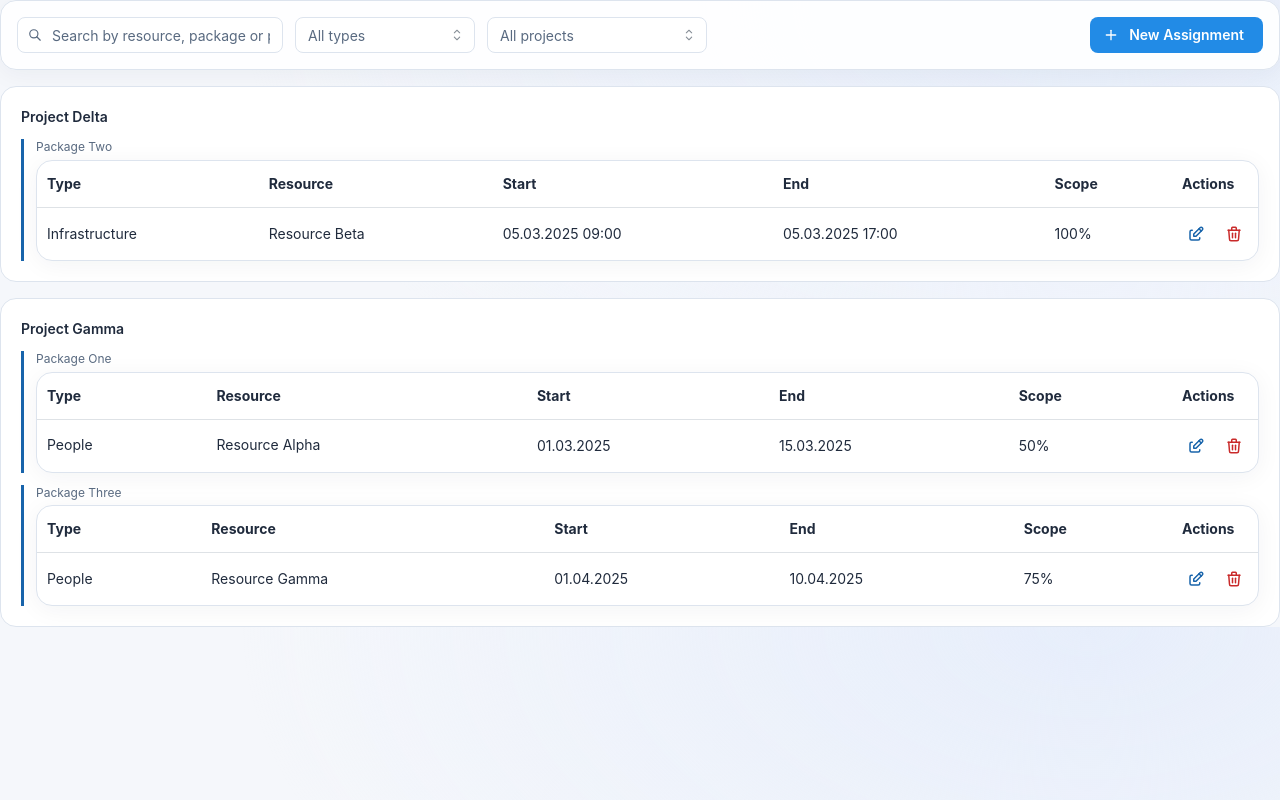
Test: AssignmentsPanel › Filtering by type (Requirement 5.3) › shows only infrastructure assignments when infrastructure type is selected
The width and height of the screenshot is (1280, 800).
Expected: the text "Resource Beta" is shown, x1=269 y1=224 x2=365 y2=244
# Click the type filter select to open dropdown
What coordinates should you click on to do the following:
click the dropdown with placeholder "All types"
I would click on:
 (385, 35)
Its box is x1=295 y1=17 x2=475 y2=53.
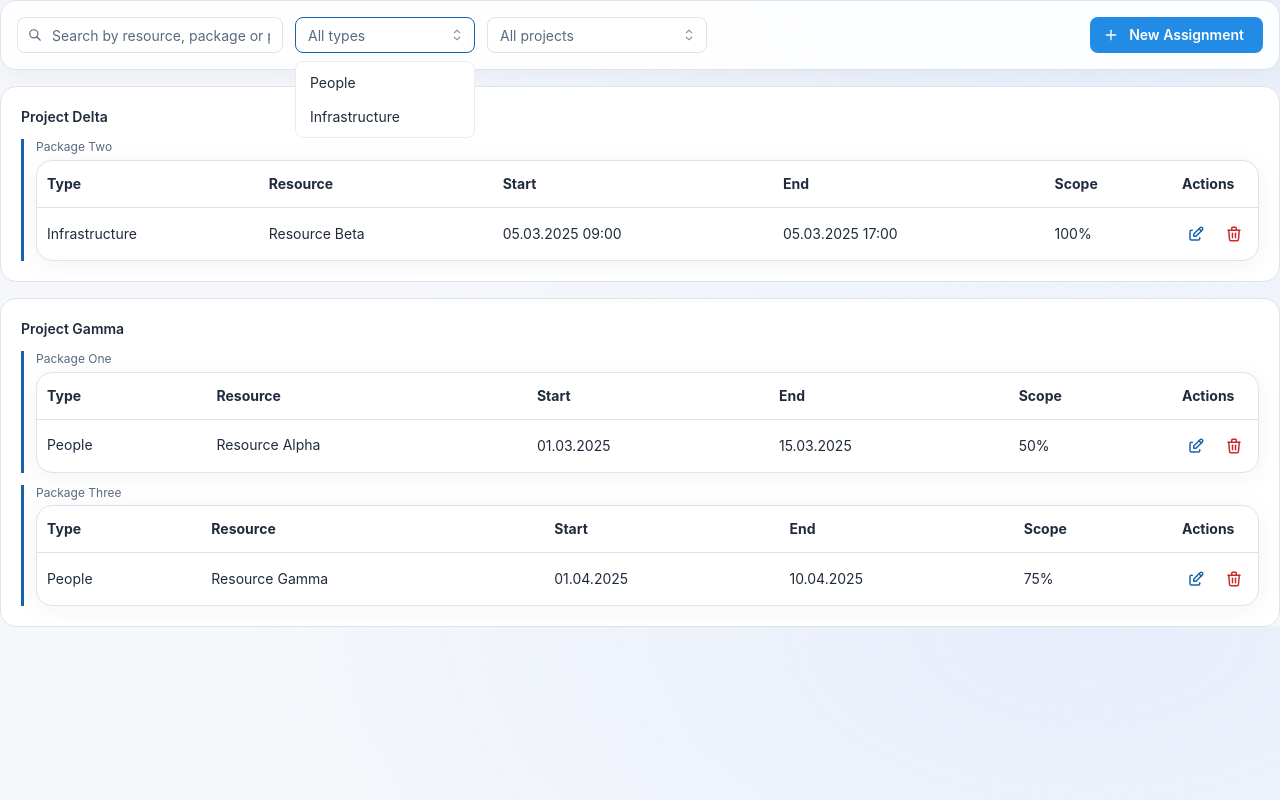
What coordinates should you click on to do the following:
click the option "Infrastructure"
I would click on:
 (355, 116)
Its box is x1=310 y1=108 x2=400 y2=125.
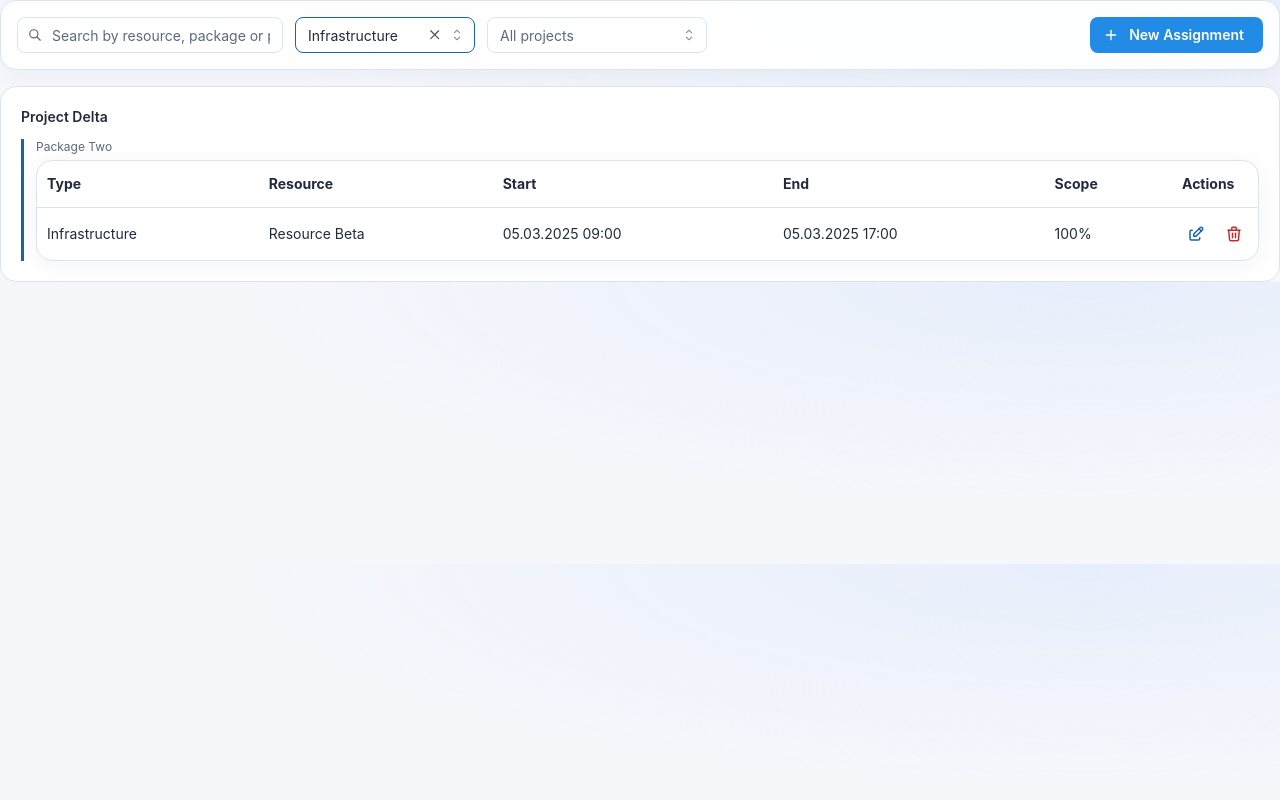
Expected: the text "Resource Beta" is shown, x1=269 y1=224 x2=365 y2=244
Expected: the text "Resource Alpha" is gone
Expected: the text "Resource Gamma" is gone
